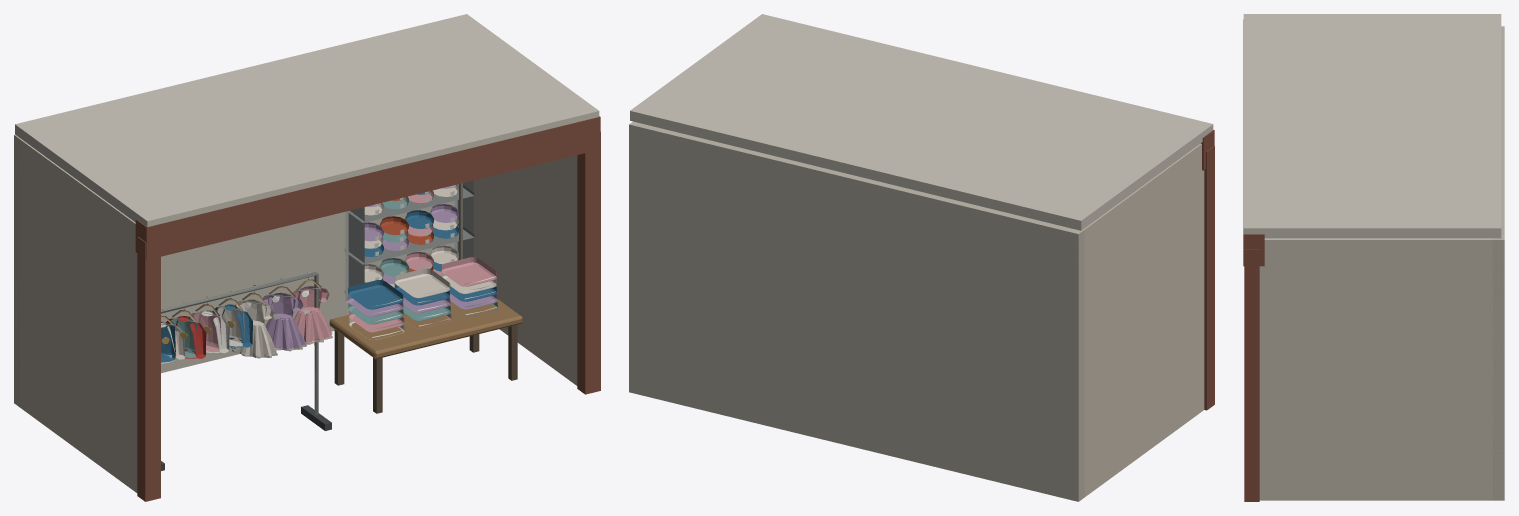
Rendered from childrenswear.glb.
3 renders of one model, left to right at view 1: azimuth 30°, elevation 25°; view 2: azimuth 150°, elevation 25°; view 3: azimuth 270°, elevation 25°, orthographic. The views are drawn at different scales.
Parts seen in each view (by area): view 1: childrenswear; view 2: childrenswear; view 3: childrenswear.
Part boxes in pixels (x1,y1,x2,y2): childrenswear: (14,14,600,501); childrenswear: (629,14,1214,501); childrenswear: (1243,14,1504,501).
Size of the model in its own units: 5.26 by 3.1 by 2.69.
